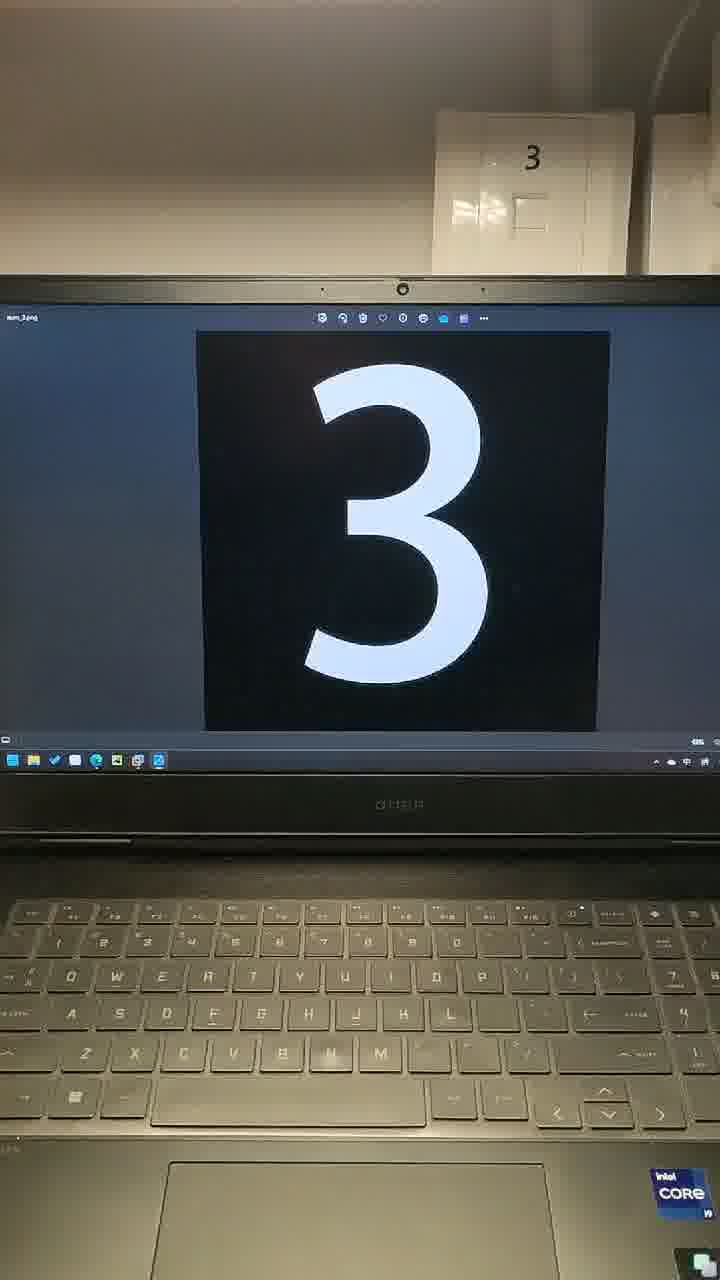three: (202, 318, 576, 729)
